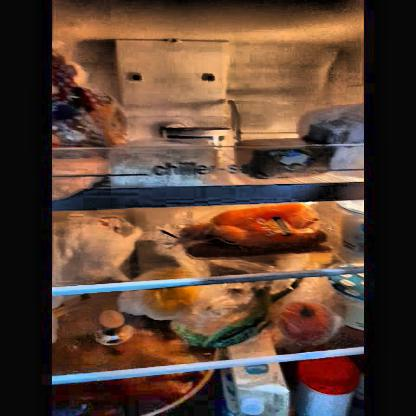butter: (242, 140, 322, 174)
carrot: (195, 211, 328, 254)
cheese: (115, 143, 210, 179)
green_chillies: (216, 294, 276, 336)
lemon: (148, 269, 197, 310)
milk: (228, 366, 290, 415)
tomato: (280, 299, 330, 339)
yoghurt: (333, 274, 363, 324), (165, 126, 228, 148), (340, 202, 365, 252)
